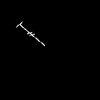treble_crochet: (20, 24, 44, 45)
